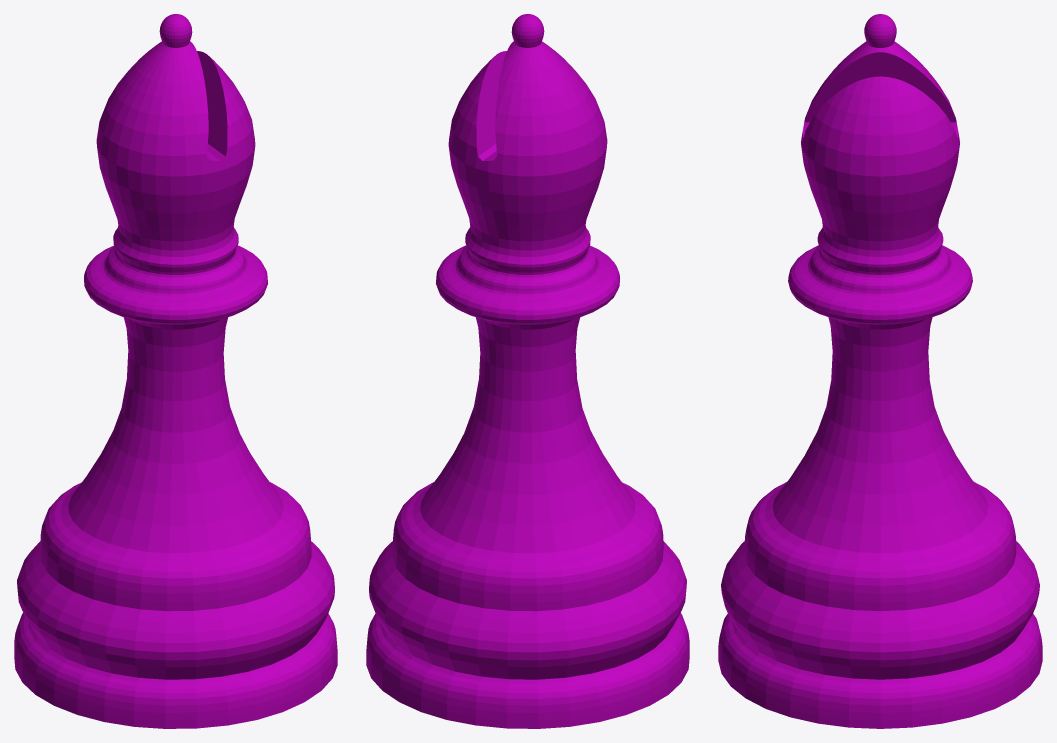
The model's file is bishop_b.gltf.
The picture shows the model from 3 angles, left to right: view 1: azimuth 30°, elevation 25°; view 2: azimuth 150°, elevation 25°; view 3: azimuth 270°, elevation 25°; orthographic projection.
Visible parts, largest first — view 1: Bishop; view 2: Bishop; view 3: Bishop.
Part boxes in pixels (left/top/right/bottom): Bishop: left=14, top=14, right=337, bottom=728; Bishop: left=366, top=14, right=689, bottom=728; Bishop: left=718, top=14, right=1042, bottom=728.
Bounding box in the file's own units: 0.5649 × 1.24 × 0.5649.
